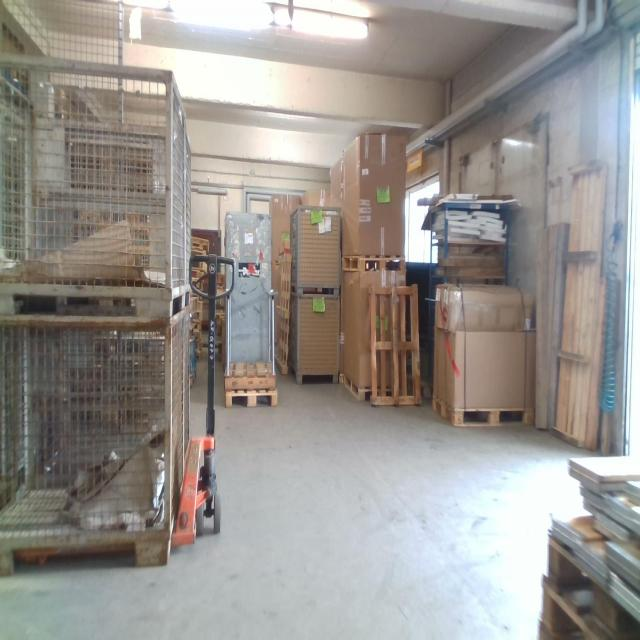pallet: (549, 515, 640, 638), (368, 284, 422, 405), (431, 394, 535, 429), (541, 574, 594, 640), (274, 251, 292, 377), (341, 371, 399, 405), (223, 360, 280, 392), (341, 254, 406, 275), (225, 387, 279, 408)
pallet_truck: (170, 250, 237, 556)
stillage: (1, 52, 182, 312), (0, 315, 175, 575), (287, 291, 344, 387), (290, 204, 341, 294), (179, 306, 195, 476), (184, 129, 192, 298)
